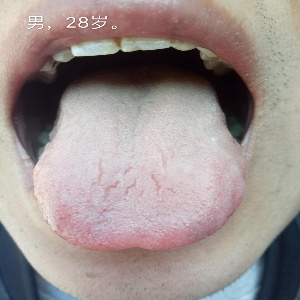st: (42, 95, 248, 257)
